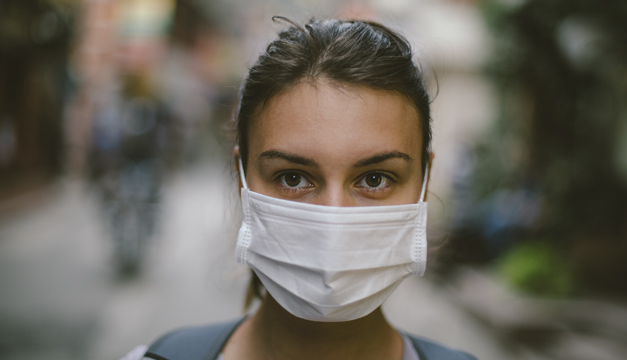with_mask: (239, 56, 435, 328)
